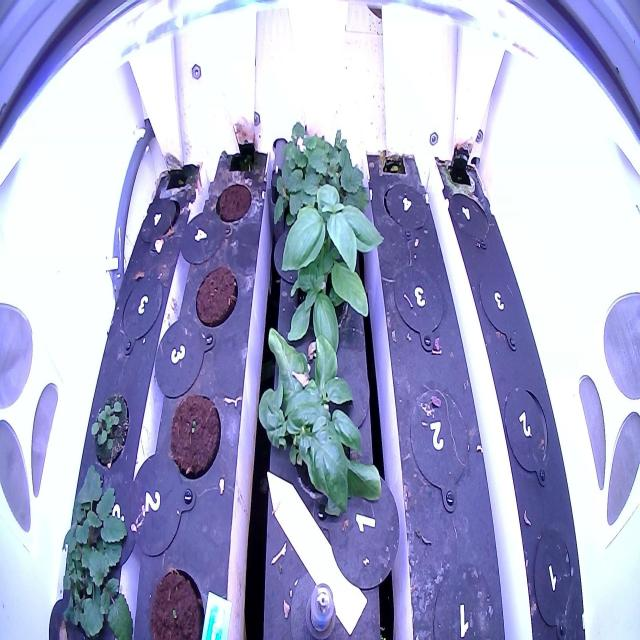empty_pod: (406, 377, 474, 495), (425, 553, 506, 639), (528, 523, 580, 638), (390, 257, 447, 356), (500, 377, 553, 477), (474, 262, 523, 353), (117, 268, 164, 354), (444, 180, 499, 253), (380, 169, 435, 238), (141, 189, 182, 248)
germination: (167, 387, 224, 482), (145, 558, 209, 640)
pod: (191, 257, 241, 331), (211, 172, 255, 227)
